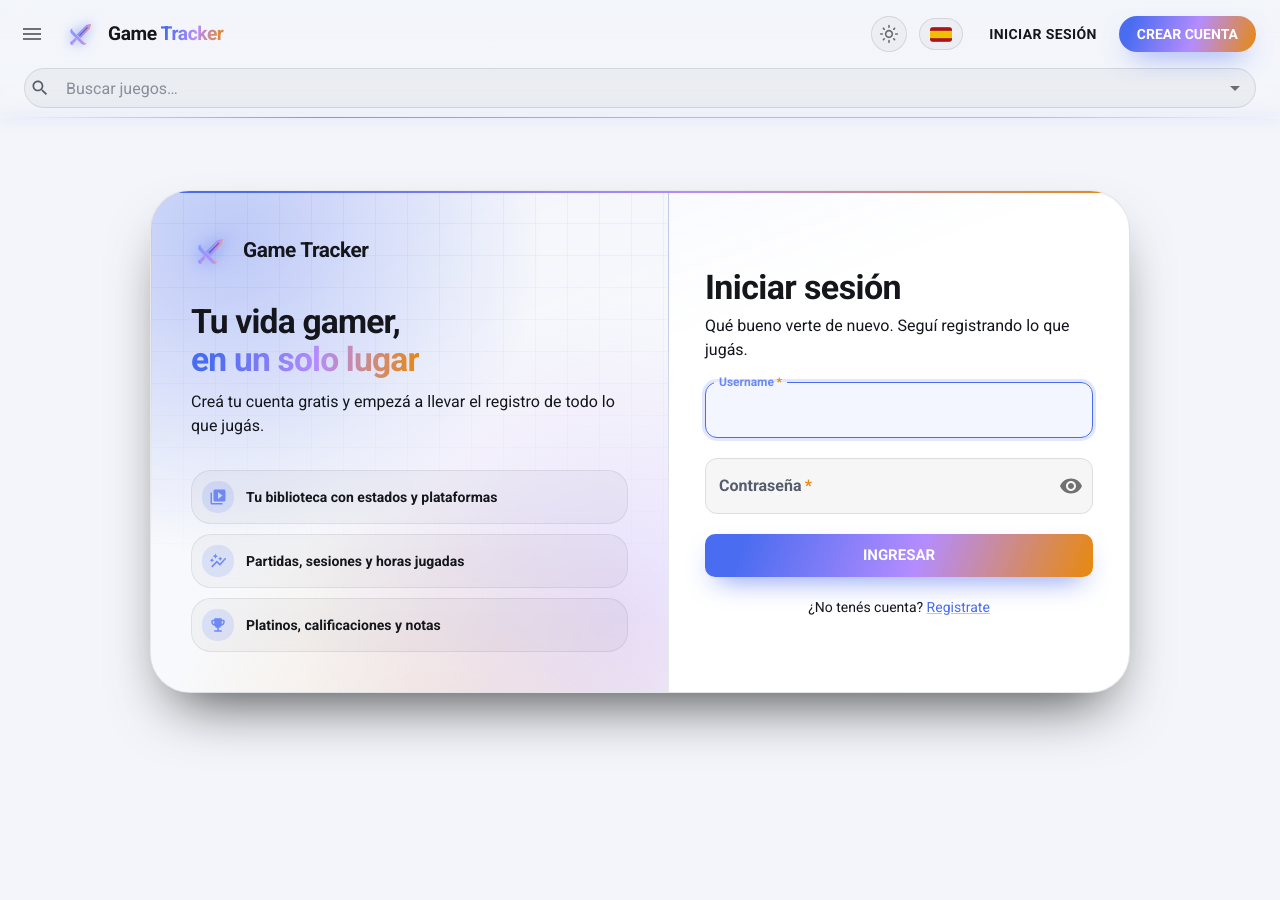
Test case: language › is available on the login page too
Click the button named "Idioma: Español. Cambiar idioma". click: (941, 34)
box: [919,18,963,50]
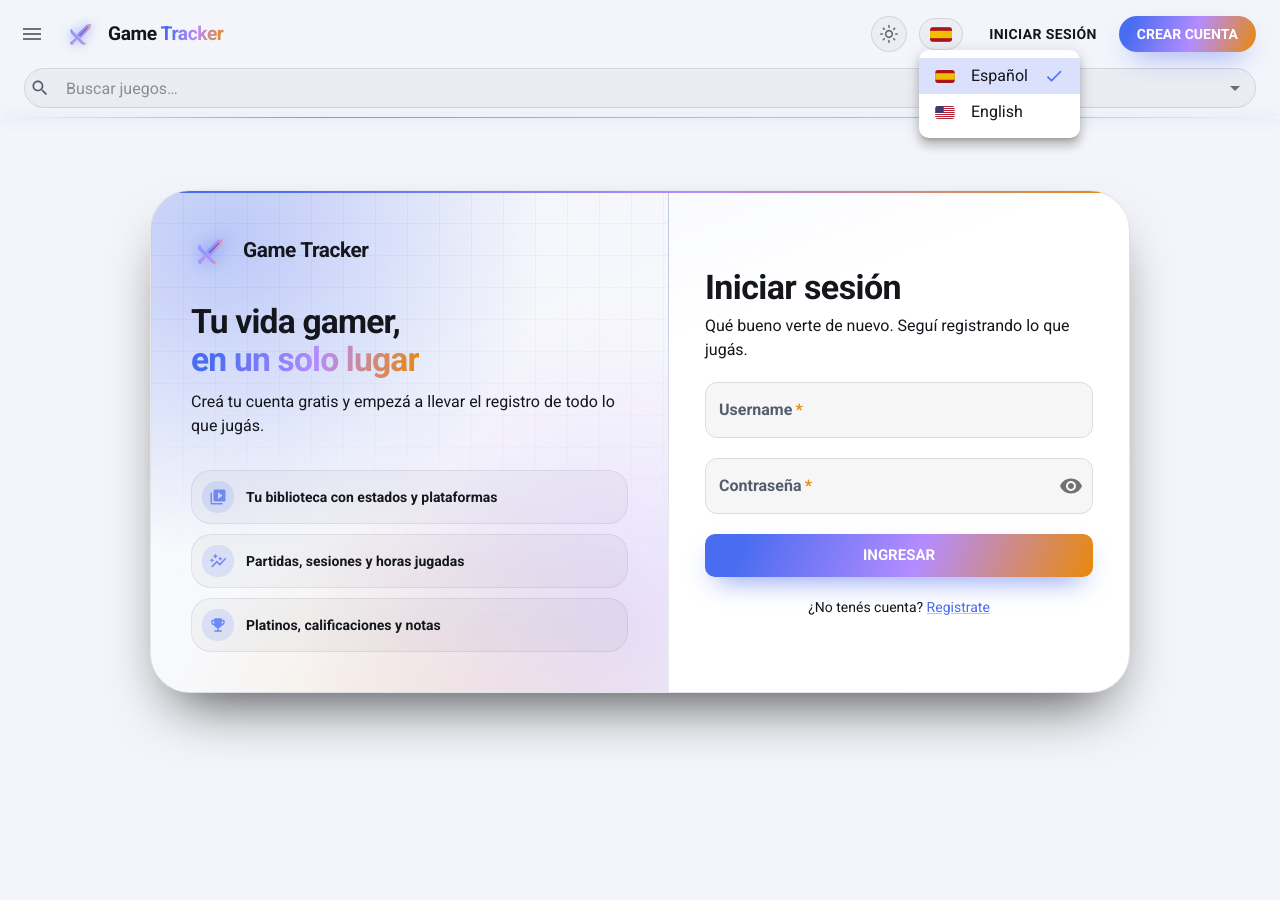
Click the menu item "English". click: (979, 112)
box: [935,102,1023,121]
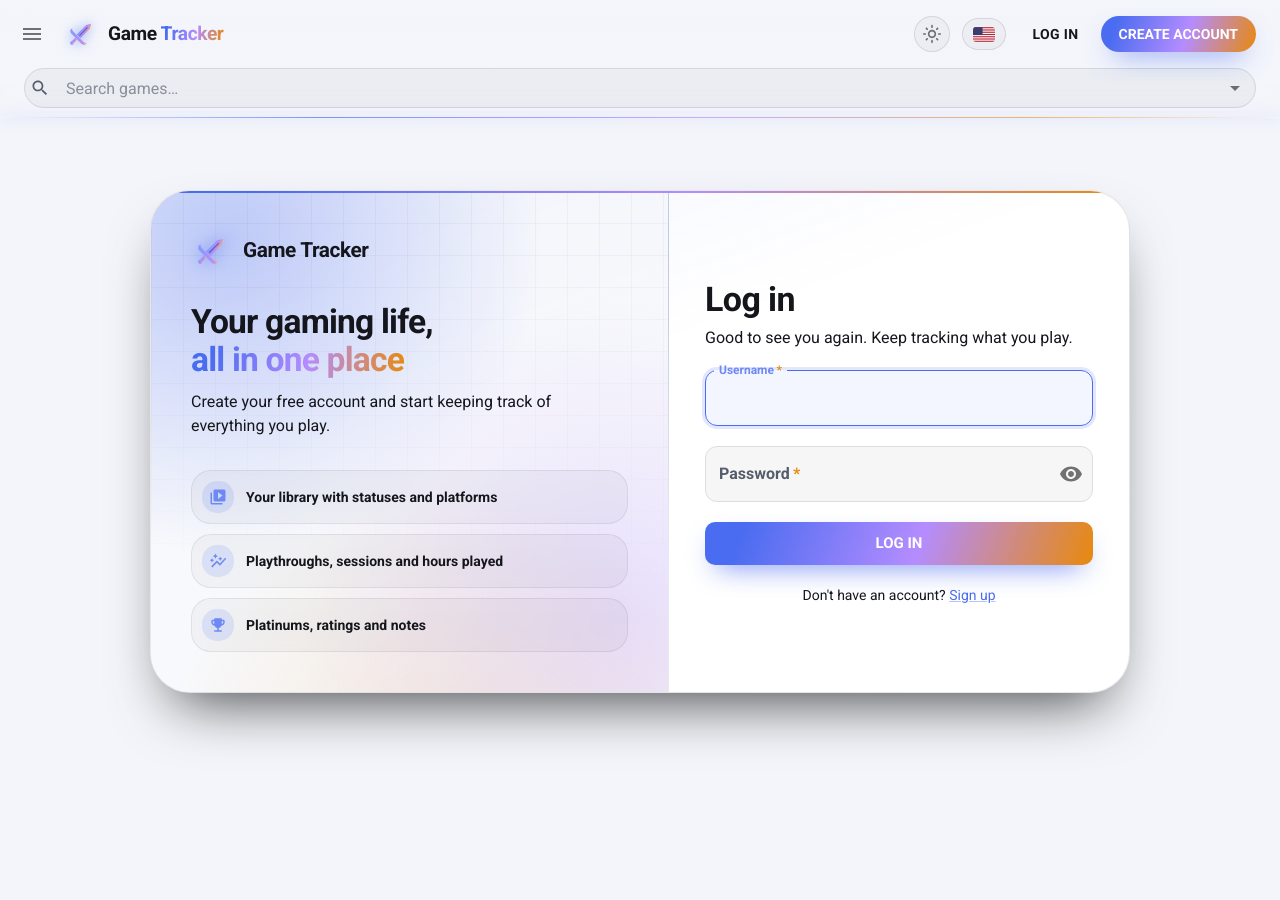
Now the heading "Log in" is shown, box [705,278,795,318]
